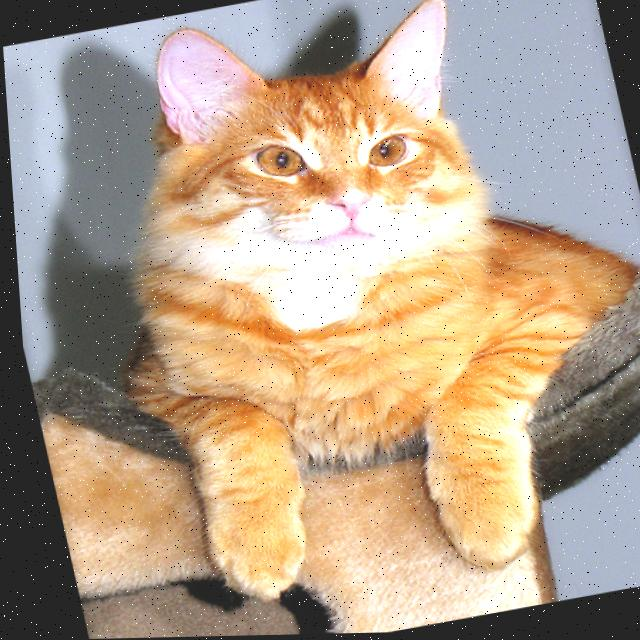Maine Coon: (38, 0, 640, 629)
